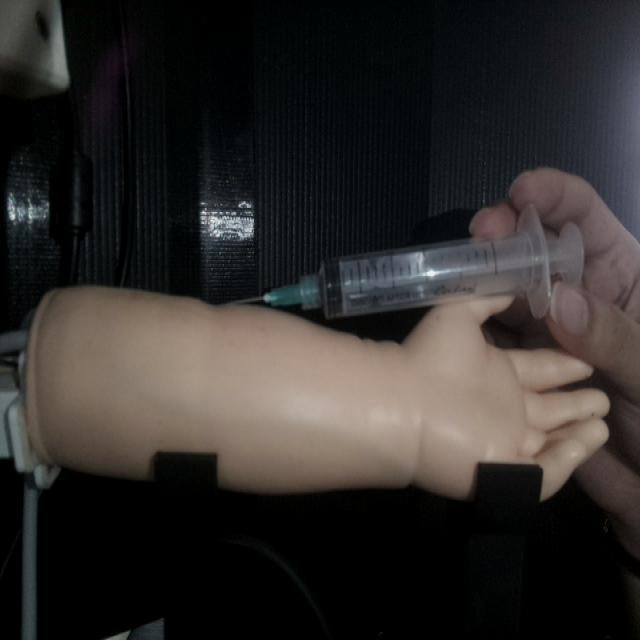Below 15 degrees: (226, 201, 586, 323)
